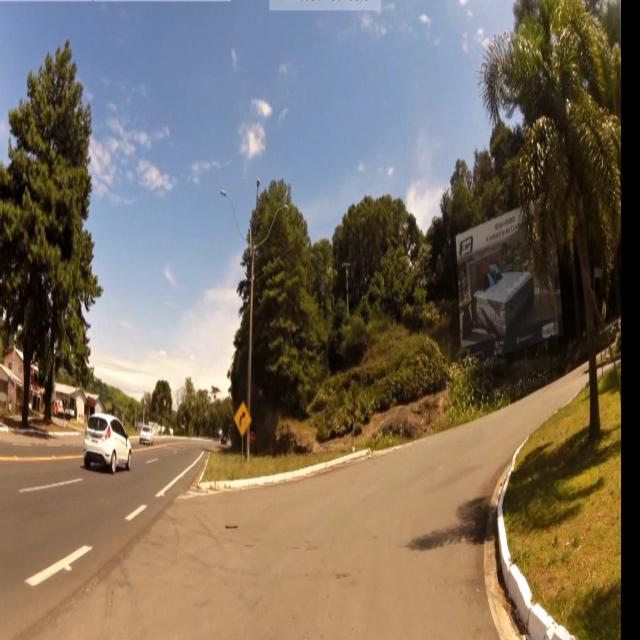A-2b: (234, 399, 251, 438)
